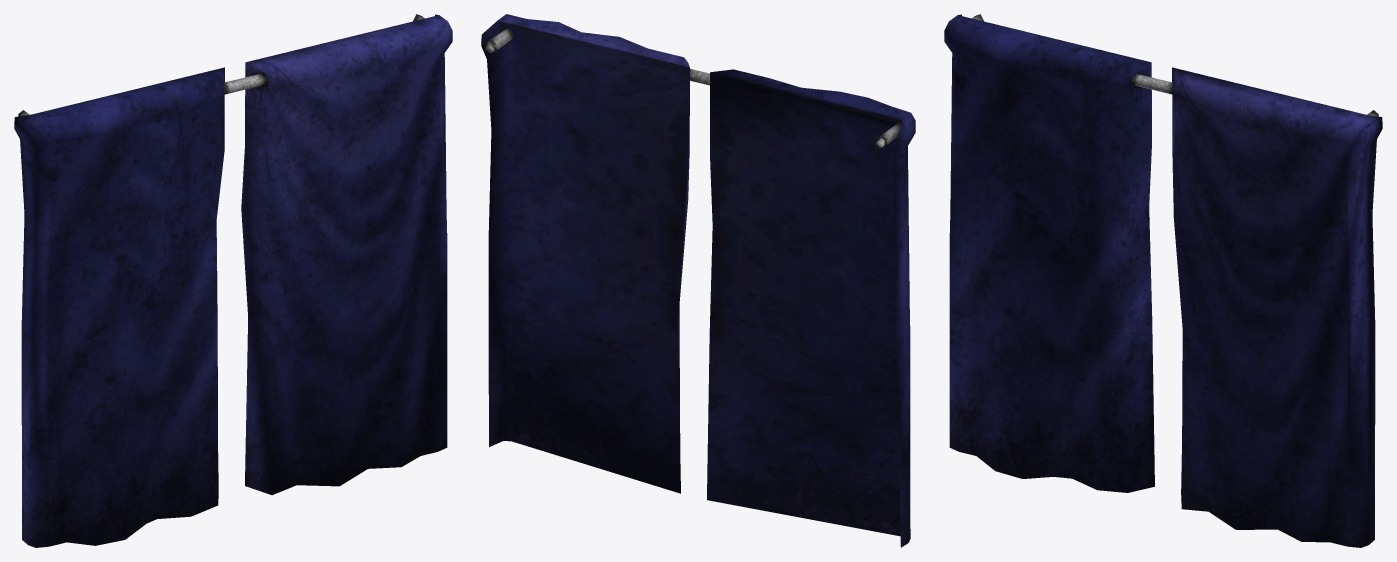
The model's file is 42_curtain01_blue_closed.dae.
3 renders of one model, left to right at view 1: azimuth 30°, elevation 25°; view 2: azimuth 150°, elevation 25°; view 3: azimuth 330°, elevation 25°, orthographic.
Parts seen in each view (by area): view 1: curtain01_closed; view 2: curtain01_closed; view 3: curtain01_closed.
Part boxes in pixels (left/top/right/bottom): curtain01_closed: left=14, top=14, right=452, bottom=547; curtain01_closed: left=481, top=14, right=915, bottom=547; curtain01_closed: left=944, top=14, right=1382, bottom=547.
Bounding box in the file's own units: 3.74 × 3.68 × 0.508.
